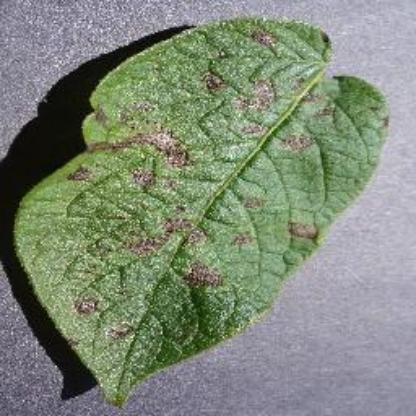Early-Blight: (12, 11, 392, 403)
